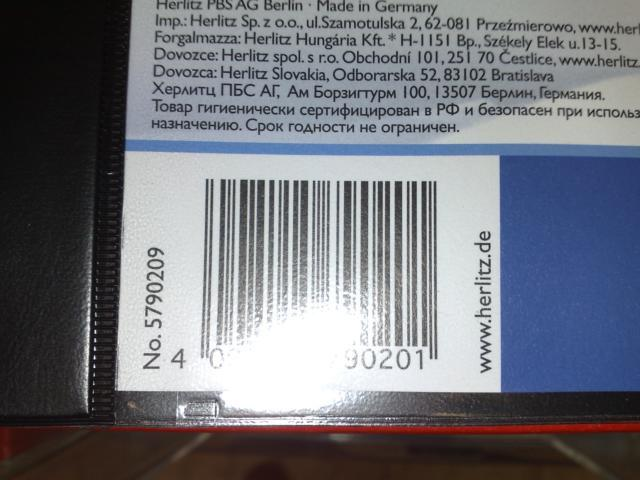Barcode: (169, 172, 459, 382)
